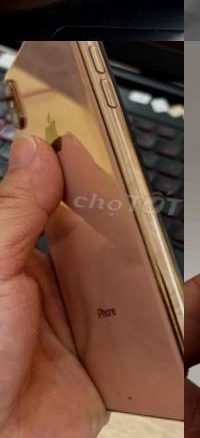scratch: (114, 386, 141, 409)
